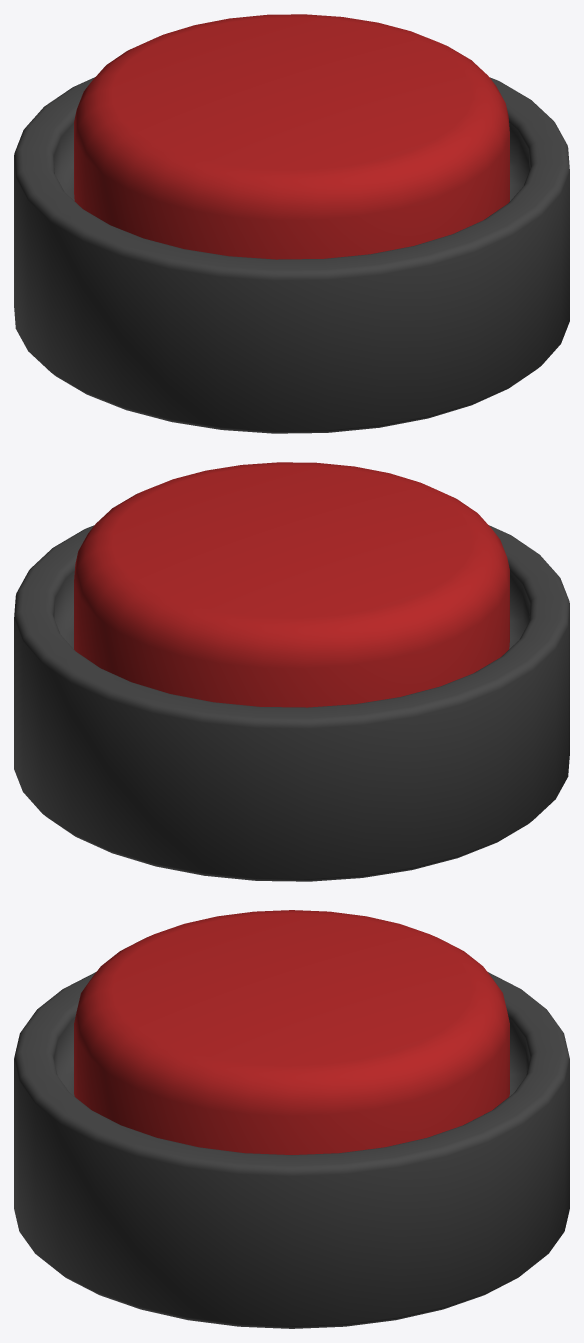
Rendered from RoundButton.gltf.
The picture shows the model from 3 angles, top to bottom: view 1: azimuth 30°, elevation 25°; view 2: azimuth 150°, elevation 25°; view 3: azimuth 270°, elevation 25°; orthographic projection.
Visible parts, largest first — view 1: RoundButtonBot, RoundButtonTop; view 2: RoundButtonBot, RoundButtonTop; view 3: RoundButtonBot, RoundButtonTop.
Part boxes in pixels (left/top/right/bottom): RoundButtonBot: left=14, top=77, right=569, bottom=433; RoundButtonTop: left=74, top=14, right=509, bottom=259; RoundButtonBot: left=14, top=525, right=569, bottom=881; RoundButtonTop: left=74, top=462, right=509, bottom=707; RoundButtonBot: left=14, top=972, right=569, bottom=1328; RoundButtonTop: left=74, top=910, right=509, bottom=1154.
Bounding box in the file's own units: 0.0771 × 0.0343 × 0.0771.
